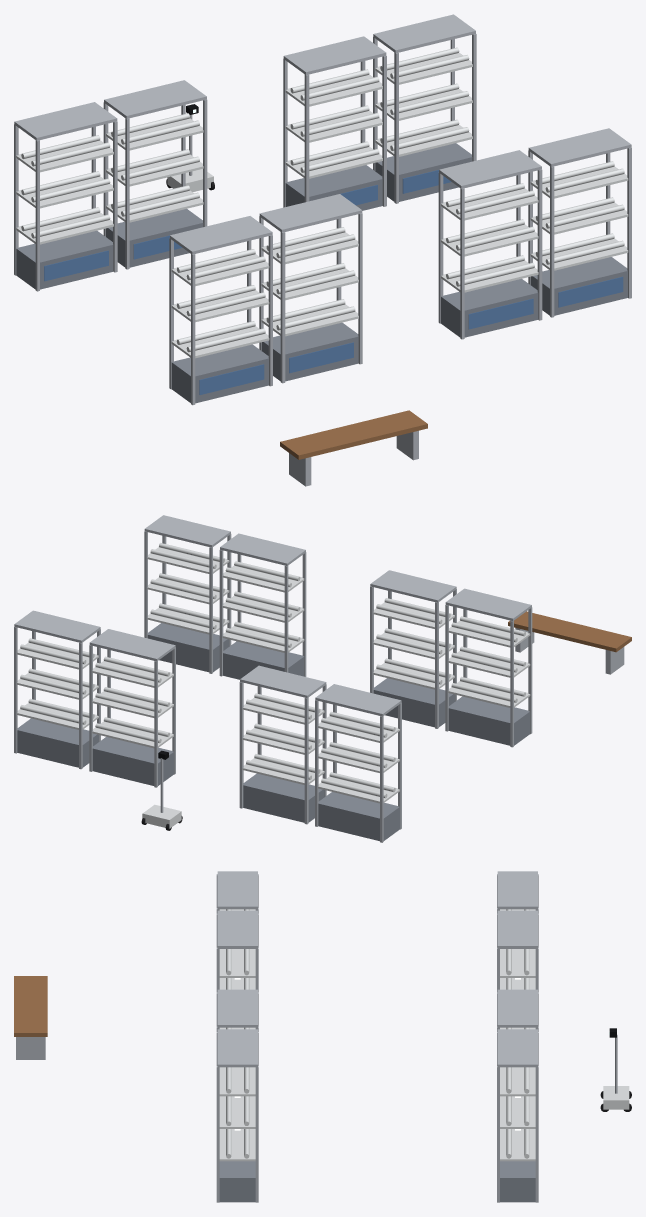
Rendered from greenhouse_therapy_racks.glb.
3 renders of one model, top to bottom at view 1: azimuth 30°, elevation 25°; view 2: azimuth 150°, elevation 25°; view 3: azimuth 270°, elevation 25°, orthographic. The views are drawn at different scales.
Parts seen in each view (by area): view 1: metal, water; view 2: metal; view 3: metal.
Boxes of the visible parts, x1,y1,x2,y2 form: metal: [14, 14, 631, 486]; water: [44, 170, 623, 394]; metal: [14, 515, 631, 842]; metal: [14, 871, 631, 1202].
Bounding box in the file's own units: 6.21 × 2.04 × 8.27.
4 materials, 4 textured.
